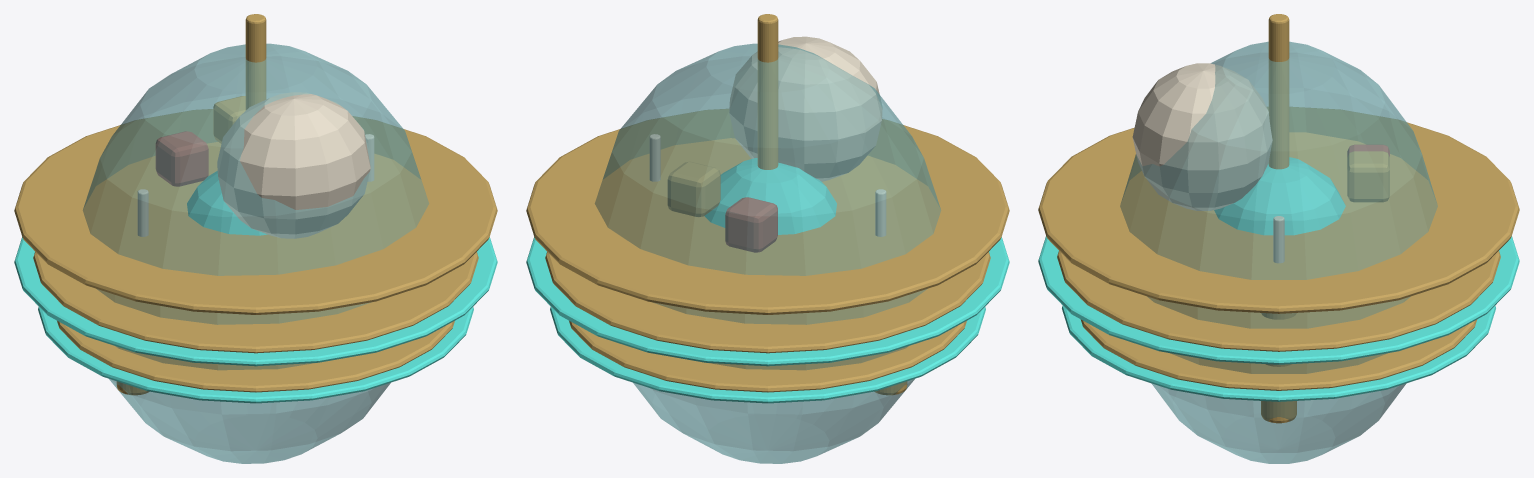
Rendered from Lantern.fbx.
3 renders of one model, left to right at view 1: azimuth 30°, elevation 25°; view 2: azimuth 150°, elevation 25°; view 3: azimuth 270°, elevation 25°, orthographic.
Parts seen in each view (by area): view 1: LanternShell, CivicRing_2, Head, CivicRing_1, CivicRing_0, GuardrailRing_1, GuardrailRing_0, BurdenCrate_0, InnerIdea, LanternHandle, BurdenCrate_1, LanternRib_-1; view 2: LanternShell, CivicRing_2, CivicRing_1, Head, CivicRing_0, GuardrailRing_1, GuardrailRing_0, InnerIdea, LanternHandle, BurdenCrate_1, BurdenCrate_0, LanternRib_-1 (+1 smaller); view 3: LanternShell, CivicRing_2, Head, CivicRing_1, CivicRing_0, GuardrailRing_1, InnerIdea, GuardrailRing_0, LanternHandle, BurdenCrate_1, LeftAppendageMesh, LanternRib_1.
Boxes of the visible parts, x1,y1,x2,y2 form: LanternShell: (83, 43, 428, 463); CivicRing_2: (14, 109, 497, 314); Head: (217, 92, 370, 238); CivicRing_1: (33, 252, 478, 353); CivicRing_0: (57, 321, 454, 392); GuardrailRing_1: (14, 237, 497, 366); GuardrailRing_0: (38, 307, 473, 403); BurdenCrate_0: (155, 131, 208, 186); InnerIdea: (187, 171, 267, 235); LanternHandle: (245, 14, 266, 109); BurdenCrate_1: (213, 96, 245, 143); LanternRib_-1: (137, 189, 148, 236); LanternShell: (595, 43, 940, 463); CivicRing_2: (526, 109, 1009, 314); CivicRing_1: (545, 252, 990, 353); Head: (729, 36, 882, 181); CivicRing_0: (569, 321, 966, 392); GuardrailRing_1: (526, 237, 1009, 366); GuardrailRing_0: (550, 307, 985, 403); InnerIdea: (704, 158, 836, 234); LanternHandle: (757, 14, 778, 169); BurdenCrate_1: (667, 161, 720, 217); BurdenCrate_0: (725, 197, 777, 252); LanternRib_-1: (875, 189, 886, 236); LanternShell: (1120, 41, 1437, 463); CivicRing_2: (1038, 107, 1519, 313); Head: (1132, 63, 1272, 210); CivicRing_1: (1057, 251, 1500, 351); CivicRing_0: (1080, 319, 1477, 390); GuardrailRing_1: (1038, 236, 1519, 364); InnerIdea: (1214, 157, 1345, 235); GuardrailRing_0: (1062, 306, 1495, 401); LanternHandle: (1268, 14, 1289, 169); BurdenCrate_1: (1347, 151, 1389, 202); LeftAppendageMesh: (1261, 313, 1296, 423); LanternRib_1: (1273, 216, 1284, 263).
Size of the model in its own units: 2.04 by 2.02 by 2.04.
